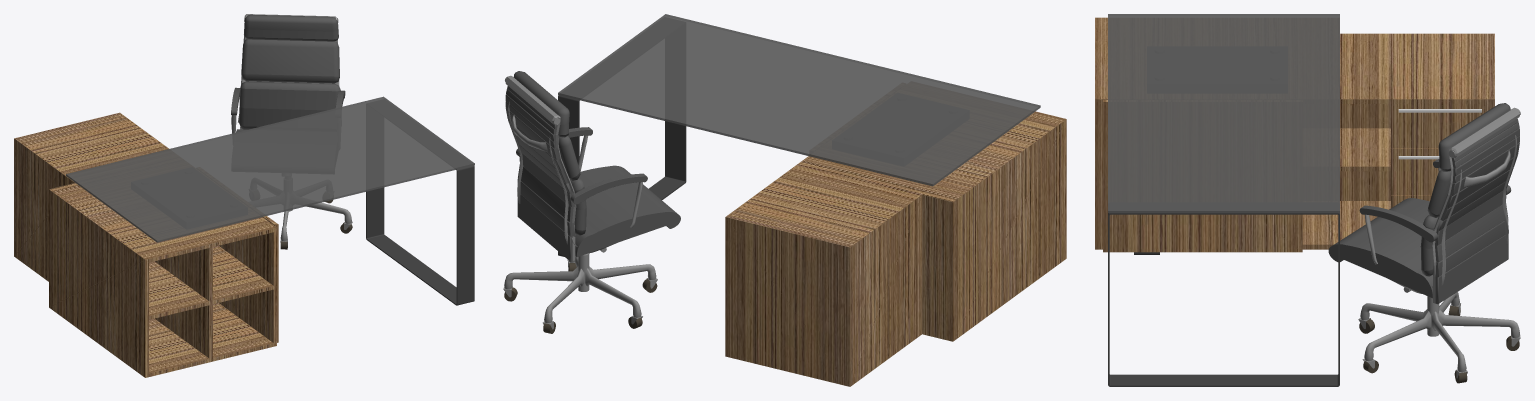
File: desk-180-drawers-right.glb
3 views of the same model, side by side, from view 1: azimuth 30°, elevation 25°; view 2: azimuth 150°, elevation 25°; view 3: azimuth 270°, elevation 25° (orthographic). The views are drawn at different scales.
Visible parts, largest first — view 1: Geom3D (×3), Geom3D_ (×2); view 2: Geom3D (×4), Geom3D_ (×2); view 3: Geom3D (×5), Geom3D_ (×2).
Boxes of the visible parts, x1,y1,x2,y2 form: Geom3D (×3): (14,96,474,377); Geom3D_ (×2): (231,14,352,245); Geom3D (×4): (504,14,1066,386); Geom3D_ (×2): (503,71,680,329); Geom3D (×5): (1095,14,1519,386); Geom3D_ (×2): (1328,103,1520,378).
Bounding box in the file's own units: 1.9 × 1.03 × 1.64.
8 materials, 1 textured.
